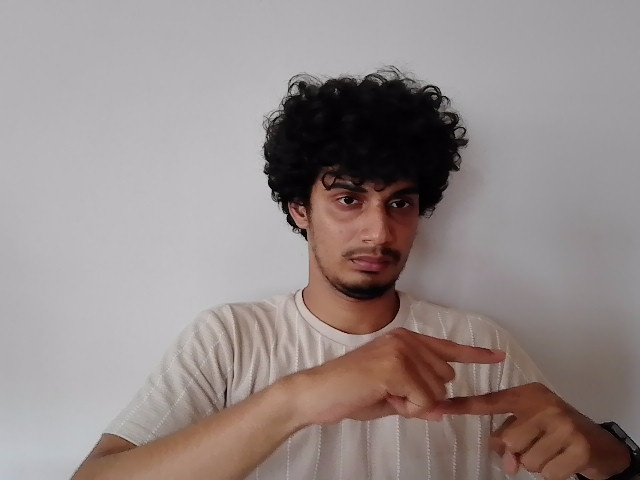about: (289, 327, 611, 480)
